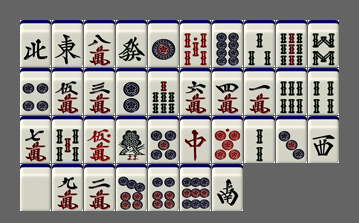0m: (84, 116, 115, 163)
0p: (212, 116, 243, 163)
0s: (180, 20, 211, 67)
1m: (244, 68, 275, 115)
1p: (148, 20, 179, 67)
1s: (116, 116, 147, 163)
1z: (52, 20, 83, 67)
2m: (84, 164, 115, 211)
2p: (116, 68, 147, 115)
2s: (244, 116, 275, 163)
2z: (212, 164, 243, 211)
3m: (84, 68, 115, 115)
3p: (276, 116, 307, 163)
3s: (244, 20, 275, 67)
3z: (308, 116, 339, 163)
4m: (212, 68, 243, 115)
4p: (20, 68, 51, 115)
4s: (308, 68, 339, 115)
4z: (20, 20, 51, 67)
5m: (52, 68, 83, 115)
5p: (148, 116, 179, 163)
5s: (52, 116, 83, 163)
5z: (20, 164, 51, 211)
6m: (180, 68, 211, 115)
6p: (148, 164, 179, 211)
6s: (276, 68, 307, 115)
6z: (116, 20, 147, 67)
7m: (20, 116, 51, 163)
7p: (116, 164, 147, 211)
7s: (148, 68, 179, 115)
7z: (180, 116, 211, 163)
8m: (84, 20, 115, 67)
8p: (212, 20, 243, 67)
8s: (308, 20, 339, 67)
9m: (52, 164, 83, 211)
9p: (180, 164, 211, 211)
9s: (276, 20, 307, 67)
